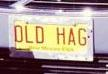A: (67, 27, 76, 46)
D: (35, 25, 45, 44)
G: (78, 27, 88, 46)
H: (56, 25, 67, 46)
L: (25, 25, 33, 44)
O: (14, 24, 23, 43)
